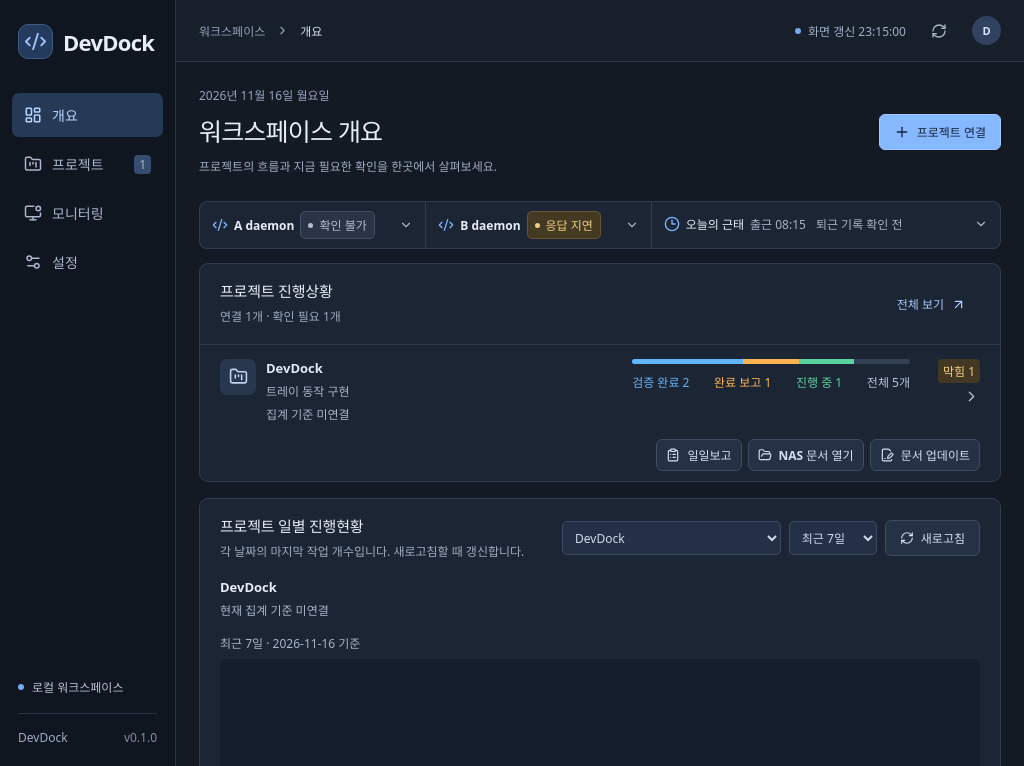
Test: DevDock dashboard › shows fresh daemon and attendance status before the chart
The image size is (1024, 766).
Expected: the element named "데몬·근태 요약" shows "확인 불가", [319,217,367,234]
Expected: the element named "데몬·근태 요약" shows "B daemon", [460,217,520,234]
What coordinates should you click on to do the following:
click the text "A daemon"
I would click on:
 (264, 225)
Its box is [234,217,294,234].
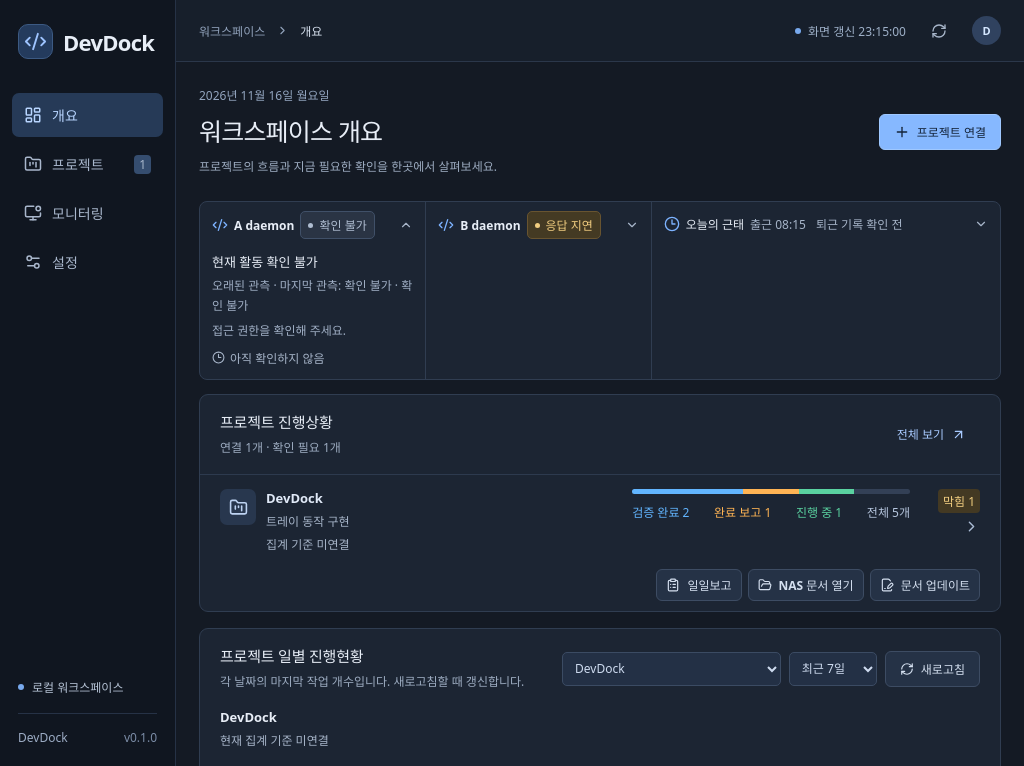
Expected: the text "접근 권한을 확인해 주세요." is shown, [212,322,346,339]
